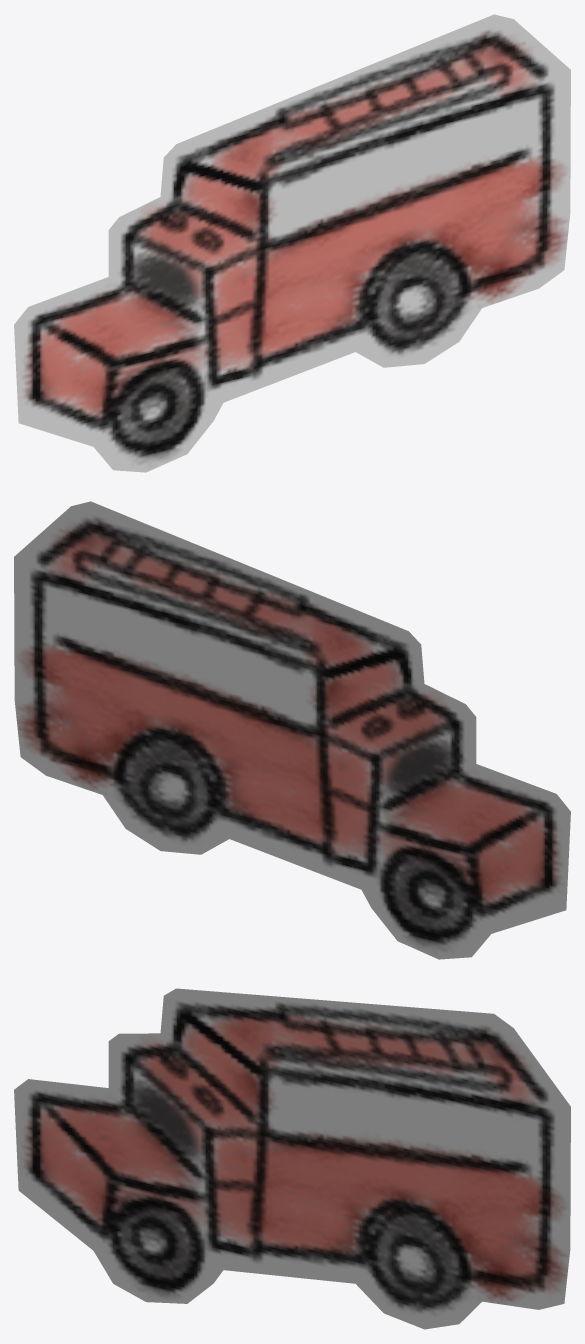
The model's file is Bil.fbx.
3 renders of one model, top to bottom at view 1: azimuth 30°, elevation 25°; view 2: azimuth 150°, elevation 25°; view 3: azimuth 330°, elevation 25°, orthographic.
Parts seen in each view (by area): view 1: bil; view 2: bil; view 3: bil.
Boxes of the visible parts, left/top/right/bottom form: bil: left=14, top=14, right=570, bottom=472; bil: left=14, top=501, right=570, bottom=959; bil: left=14, top=988, right=570, bottom=1329.
Bounding box in the file's own units: 54.92 × 35.17 × 5.73e-06.
Materials: 1 (1 with a texture image).
